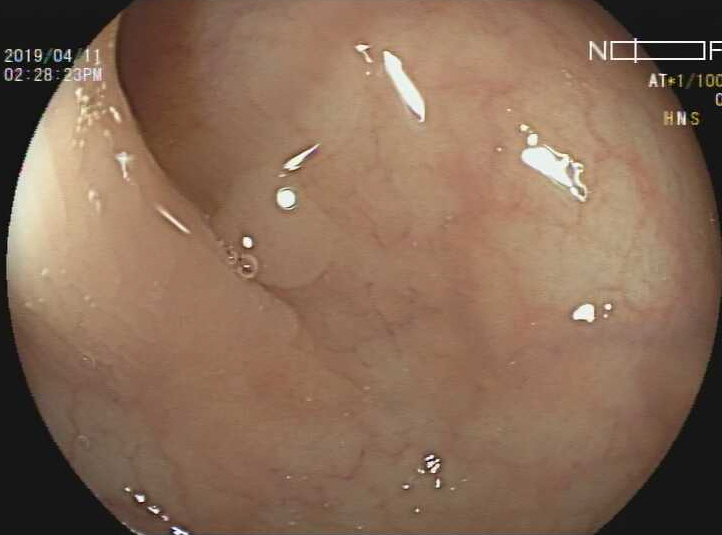others: (211, 162, 334, 288)
